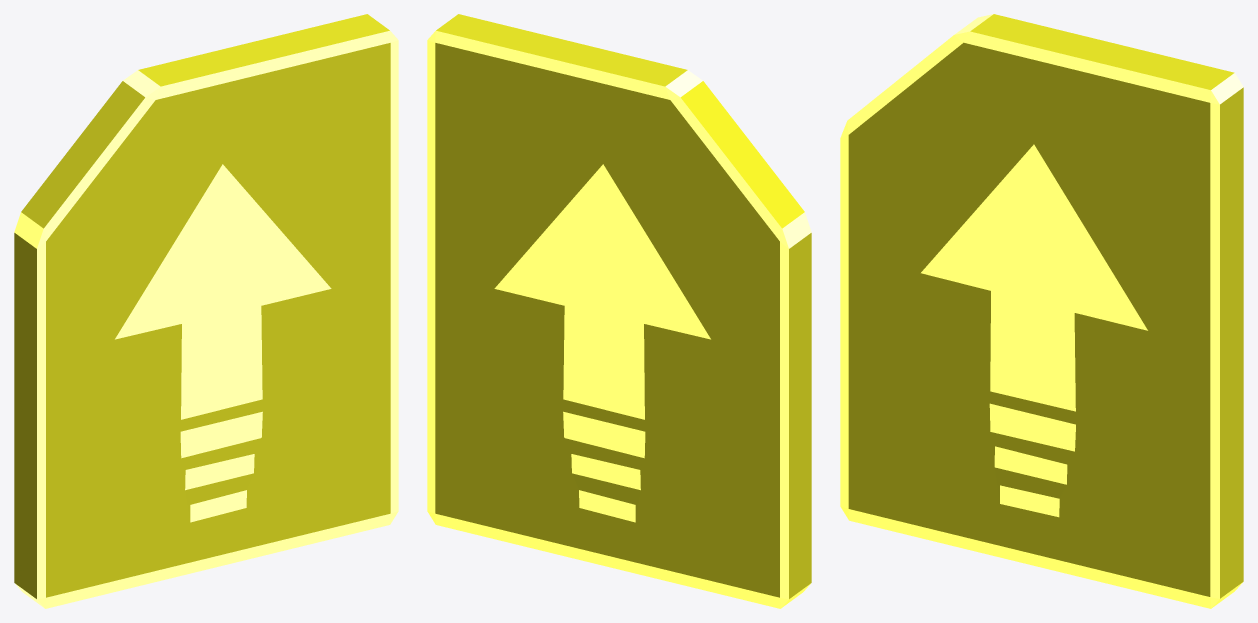
The model's file is Item.glb.
3 views of the same model, side by side, from view 1: azimuth 30°, elevation 25°; view 2: azimuth 150°, elevation 25°; view 3: azimuth 330°, elevation 25° (orthographic). The views are drawn at different scales.
Visible parts, largest first — view 1: Куб.002; view 2: Куб.002; view 3: Куб.002.
Boxes of the visible parts, x1,y1,x2,y2 form: Куб.002: (14, 14, 398, 608); Куб.002: (427, 14, 811, 608); Куб.002: (840, 14, 1243, 608).
Size of the model in its own units: 1.53 by 2 by 0.1758.
